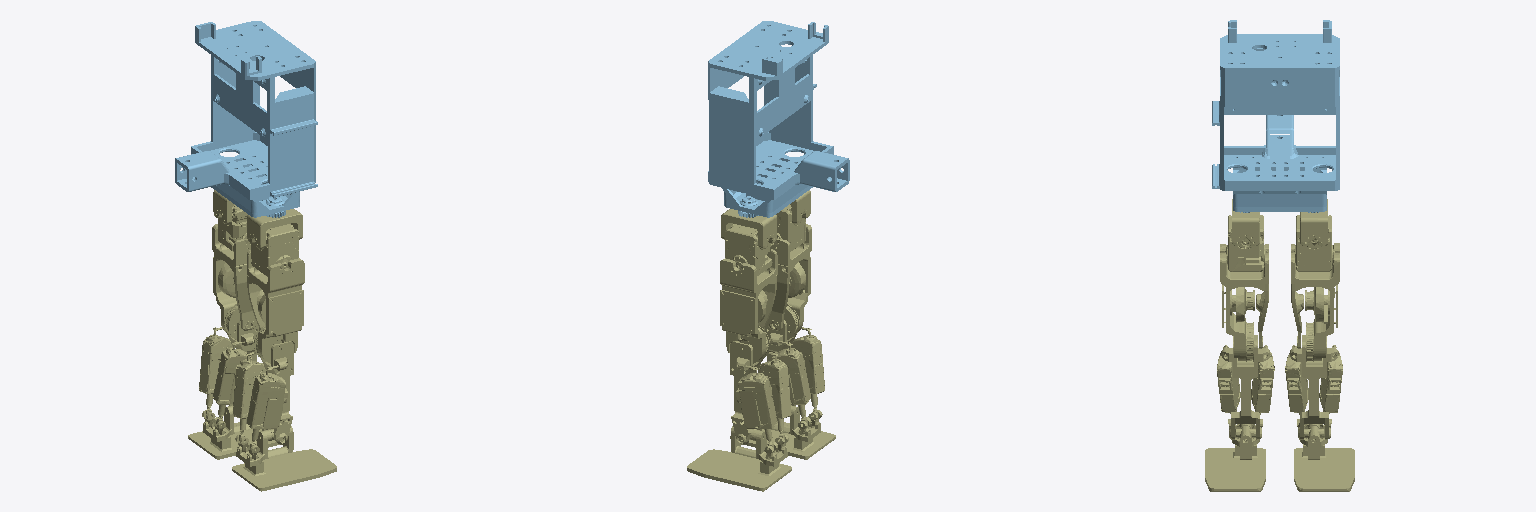
robot.urdf — no_body:
<?xml version="1.0" ?><robot name="no_body">  
  <link name="body_link">    
    <visual>      
      <origin xyz="0 0 0" rpy="0 -0 0"/>      
      <geometry>        
        <mesh filename="package:///meshes/body_link_visual.stl"/>        
      </geometry>      
      <material name="body_link_material">        
        <color rgba="0.61397237829351869465 0.80332498114502748354 0.91540927344620071082 1.0"/>        
      </material>      
    </visual>    
    <collision>      
      <origin xyz="0 0 0" rpy="0 -0 0"/>      
      <geometry>        
        <mesh filename="package:///meshes/body_link_collision.stl"/>        
      </geometry>      
    </collision>    
    <inertial>      
      <origin xyz="-0.01499364327886279491 -0.00061666227763491530088 0.37865534467571948518" rpy="0 0 0"/>      
      <mass value="1.0086534506317459403"/>      
      <inertia ixx="0.0046858218276694544105" ixy="9.5066545070522087891e-06" ixz="-0.00033041186495409415264" iyy="0.0039734105446477419737" iyz="-2.4960818033478732468e-05" izz="0.0024171325638287608113"/>      
    </inertial>    
  </link>  

  <link name="left_3r+rh5_leg">    
    <visual>      
      <origin xyz="0 0 0" rpy="0 -0 0"/>      
      <geometry>        
        <mesh filename="package:///meshes/left_3r+rh5_leg_visual.stl"/>        
      </geometry>      
      <material name="left_3r+rh5_leg_material">        
        <color rgba="0.71739176220228562109 0.71434779139739223996 0.54703151743593081413 1.0"/>        
      </material>      
    </visual>    
    <collision>      
      <origin xyz="0 0 0" rpy="0 -0 0"/>      
      <geometry>        
        <mesh filename="package:///meshes/left_3r+rh5_leg_collision.stl"/>        
      </geometry>      
    </collision>    
    <inertial>      
      <origin xyz="-0.0038241616594010103235 0.0013115658691236348199 -0.12289928861698865004" rpy="0 0 0"/>      
      <mass value="0.33195598389228875291"/>      
      <inertia ixx="0.0020902078719060072053" ixy="-1.6071516345336311138e-06" ixz="-0.00010501190153826278628" iyy="0.0020817060999193046089" iyz="-1.5044687092366121846e-05" izz="0.00012532959137049671291"/>      
    </inertial>    
  </link>  

  <joint name="left_hip_yaw" type="revolute">    
    <origin xyz="-0.0093999999999961926511 0.033999999999999301614 0.28500000000000003109" rpy="9.5014891068790173158e-14 -1.7824800733959379972e-14 -7.7962407392327512346e-15"/>    
    <parent link="body_link"/>    
    <child link="left_3r+rh5_leg"/>    
    <axis xyz="0 0 1"/>    
    <limit effort="1" velocity="20" lower="-0.785398163397448279" upper="0.785398163397448279"/>    
    <joint_properties friction="0.0"/>    
  </joint>  

  <link name="right_3r+rh5_leg">    
    <visual>      
      <origin xyz="0 0 0" rpy="0 -0 0"/>      
      <geometry>        
        <mesh filename="package:///meshes/right_3r+rh5_leg_visual.stl"/>        
      </geometry>      
      <material name="right_3r+rh5_leg_material">        
        <color rgba="0.71739233455731554745 0.71434834594644691652 0.5470307114278246674 1.0"/>        
      </material>      
    </visual>    
    <collision>      
      <origin xyz="0 0 0" rpy="0 -0 0"/>      
      <geometry>        
        <mesh filename="package:///meshes/right_3r+rh5_leg_collision.stl"/>        
      </geometry>      
    </collision>    
    <inertial>      
      <origin xyz="-0.003889680852743220181 -0.001107195478697155103 -0.12289828084282115872" rpy="0 0 0"/>      
      <mass value="0.3319532758554966656"/>      
      <inertia ixx="0.0020903301182359445252" ixy="1.7017694071494316904e-06" ixz="-0.00010478221356105752436" iyy="0.0020814970798241337092" iyz="4.4542630918547628768e-06" izz="0.00012532536902788734656"/>      
    </inertial>    
  </link>  

  <joint name="right_hip_yaw" type="revolute">    
    <origin xyz="-0.009399999999996381736 -0.034000000000000807354 0.28499999999999969802" rpy="9.1462148145194911492e-14 -1.7824800733940560906e-14 -2.1356041234847096424e-13"/>    
    <parent link="body_link"/>    
    <child link="right_3r+rh5_leg"/>    
    <axis xyz="0 0 1"/>    
    <limit effort="1" velocity="20" lower="-0.785398163397448279" upper="0.785398163397448279"/>    
    <joint_properties friction="0.0"/>    
  </joint>  


</robot>

--- Render facts (derived) ---
3 views of the same robot in one strip: view 1: azimuth 30°, elevation 25°; view 2: azimuth 150°, elevation 25°; view 3: azimuth 270°, elevation 25° (orthographic).
Model no_body with 3 links and 2 joints (2 revolute), rooted at body_link, posed every joint at zero.
Visible links, largest first — view 1: body_link, right_3r+rh5_leg, left_3r+rh5_leg; view 2: body_link, left_3r+rh5_leg, right_3r+rh5_leg; view 3: body_link, left_3r+rh5_leg, right_3r+rh5_leg.
Link boxes in pixels (x1,y1,x2,y2): body_link: [175, 21, 317, 217]; right_3r+rh5_leg: [232, 209, 336, 491]; left_3r+rh5_leg: [188, 190, 279, 459]; body_link: [708, 21, 849, 217]; left_3r+rh5_leg: [687, 209, 791, 491]; right_3r+rh5_leg: [730, 190, 835, 459]; body_link: [1212, 20, 1339, 212]; left_3r+rh5_leg: [1285, 199, 1354, 491]; right_3r+rh5_leg: [1205, 199, 1274, 491].
Size in the robot's own frame: 0.1434 by 0.148 by 0.4708 metres.
3 mesh visuals loaded from 3 distinct referenced files (3 binary STL).